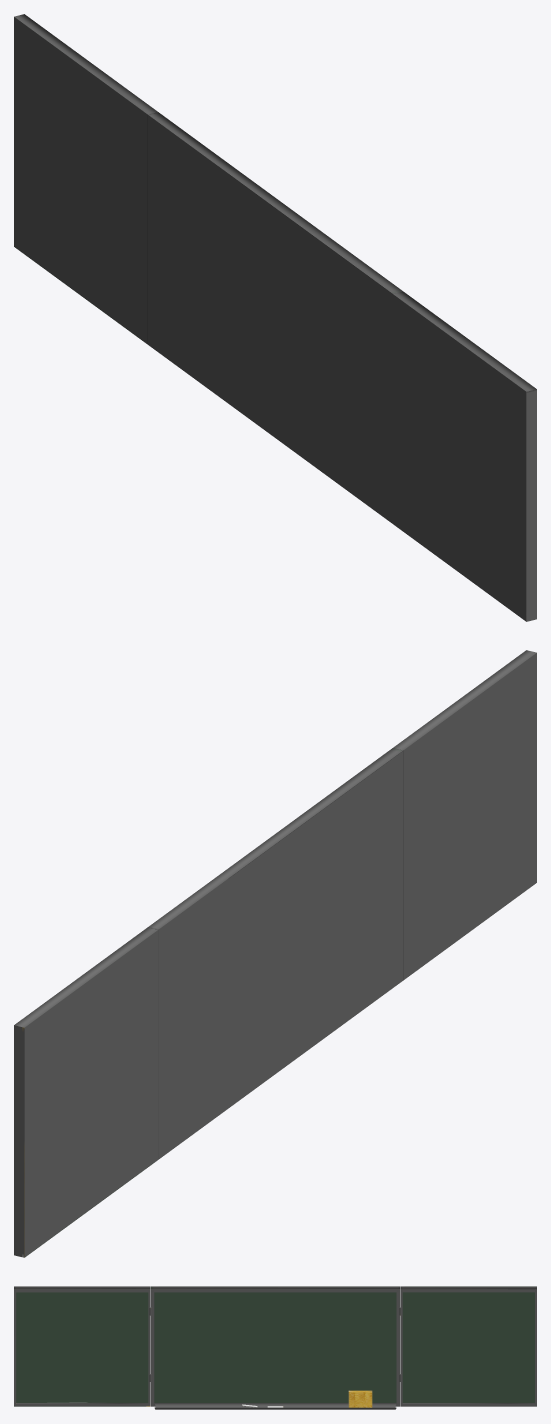
The model's file is tablica_diw (2).fbx.
The picture shows the model from 3 angles, top to bottom: view 1: azimuth 30°, elevation 25°; view 2: azimuth 150°, elevation 25°; view 3: azimuth 270°, elevation 25°; orthographic projection. The views are drawn at different scales.
Visible parts, largest first — view 1: Tablica.002; view 2: Tablica.002; view 3: Tablica.002.
Boxes of the visible parts, bbox=[...] form: Tablica.002: bbox=[14, 14, 536, 621]; Tablica.002: bbox=[14, 650, 536, 1257]; Tablica.002: bbox=[14, 1286, 536, 1409].
Bounding box in the file's own units: 32.62 × 264 × 1066.
Materials: 1 (1 with a texture image).
